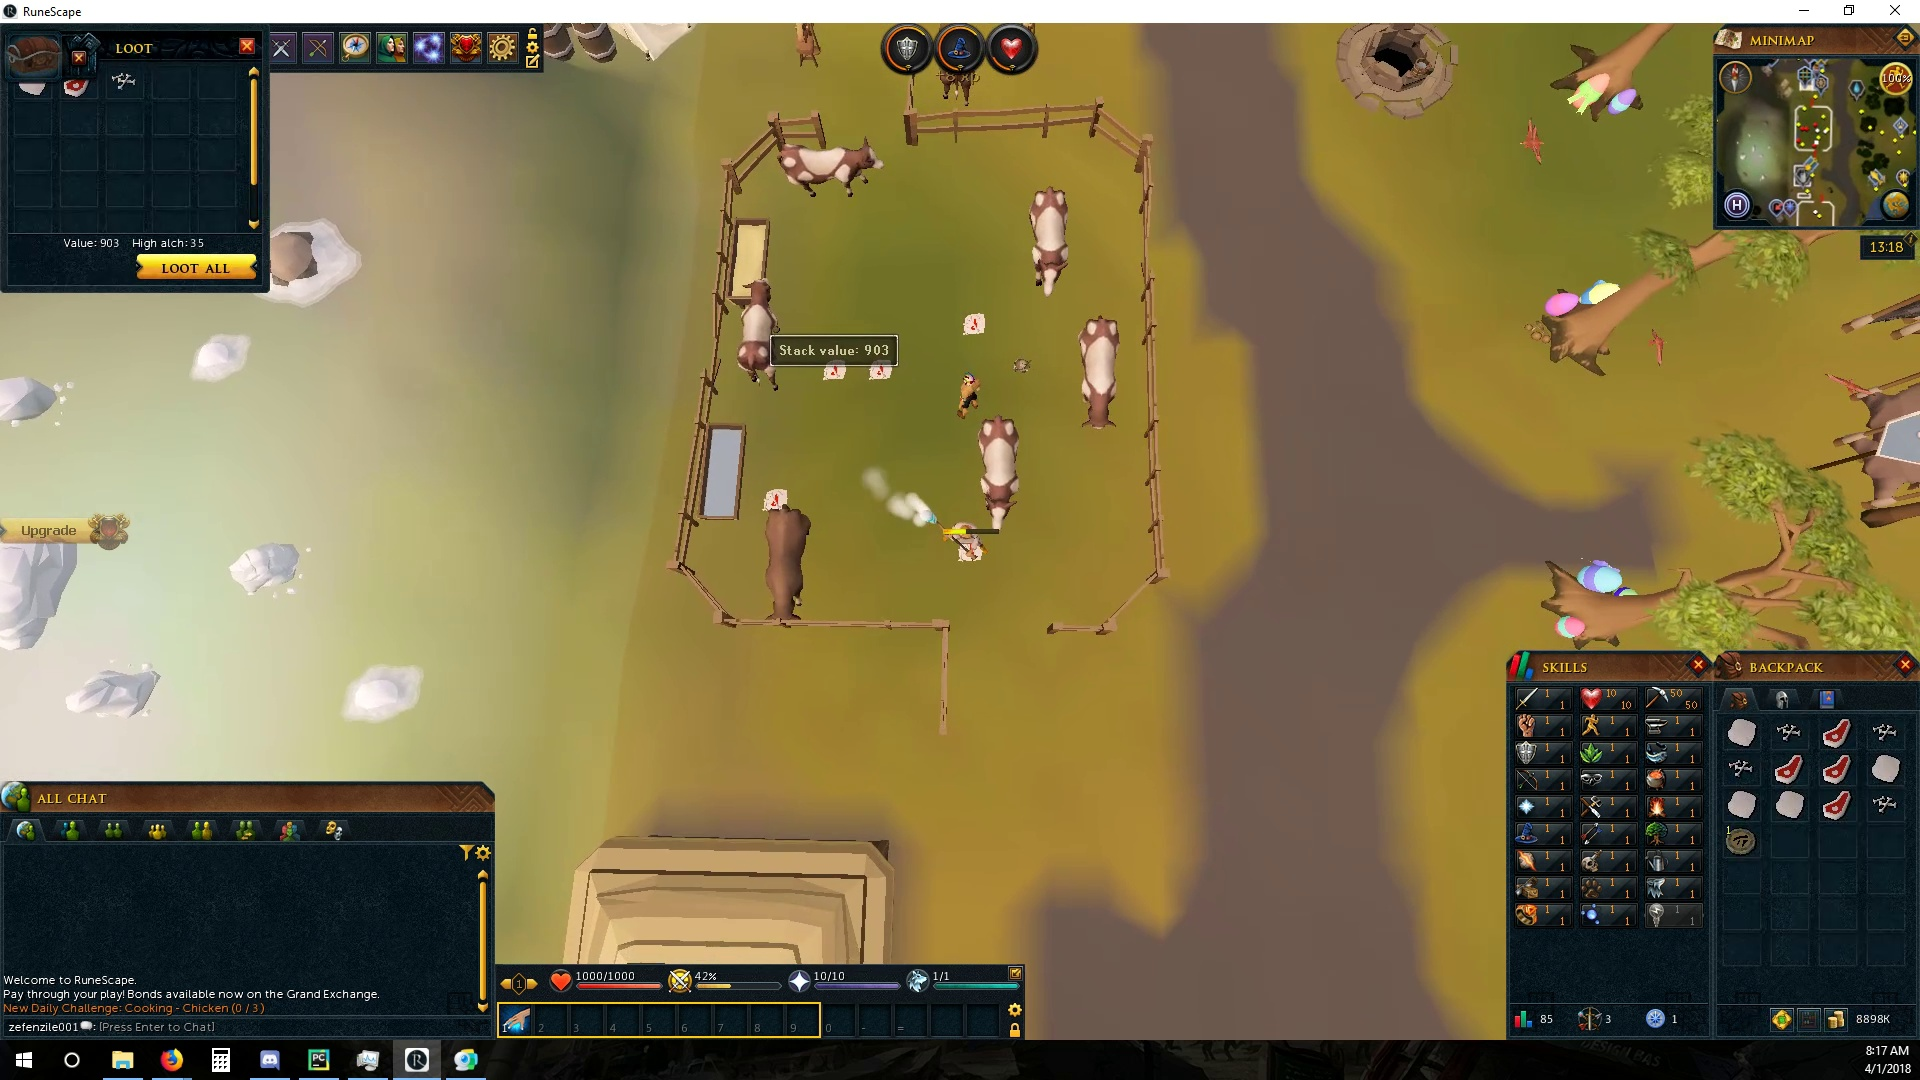cow: (775, 133, 886, 198), (760, 501, 811, 626), (1073, 314, 1121, 439), (735, 276, 786, 390), (975, 415, 1021, 533), (1030, 179, 1071, 299)
cow_drop: (818, 357, 852, 382), (960, 310, 989, 336), (868, 359, 895, 382), (764, 487, 789, 508)
